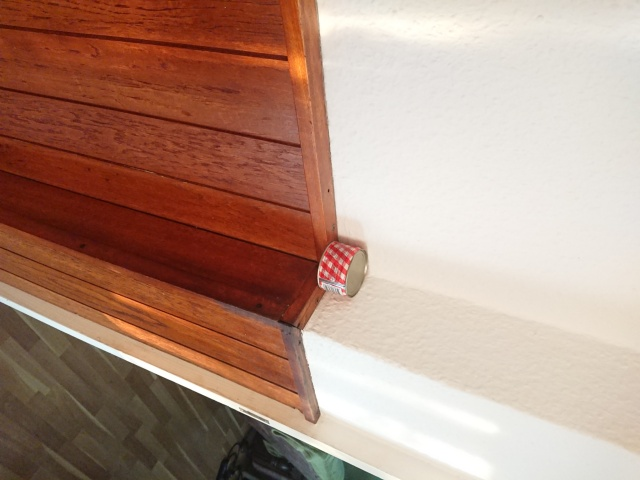Podravka Luncheon Meat 150g: (314, 237, 370, 300)
